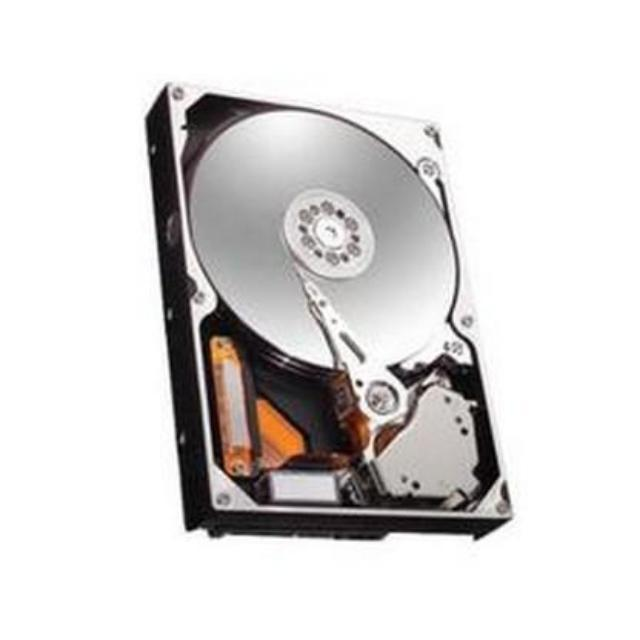DISK: (140, 81, 518, 544)
